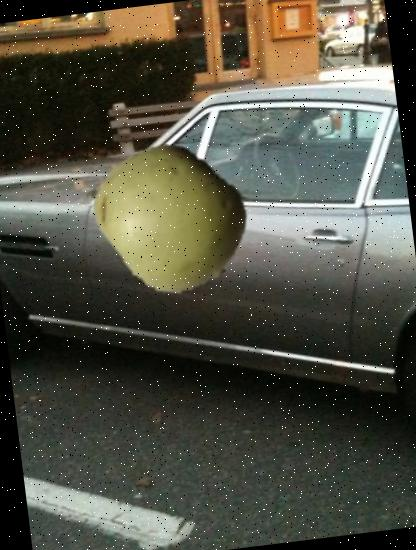Apple: (88, 134, 256, 302)
